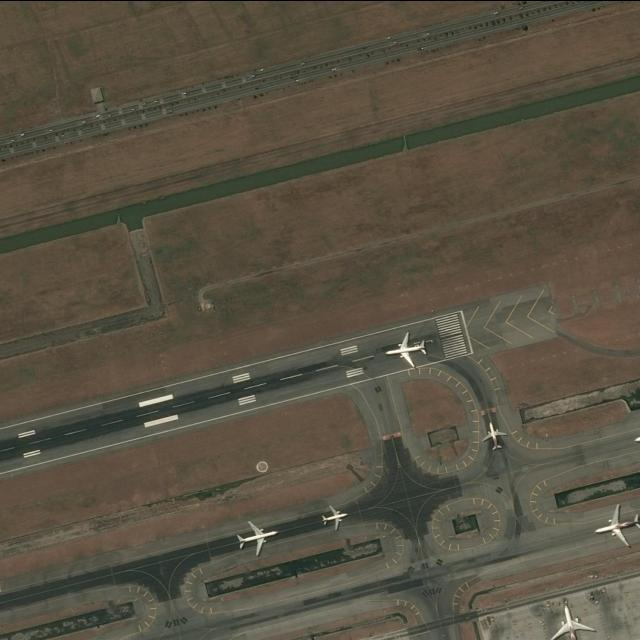Aircraft: (594, 503, 640, 549), (384, 331, 430, 369), (551, 604, 596, 640), (237, 519, 279, 557), (318, 504, 350, 532), (481, 419, 508, 452)
